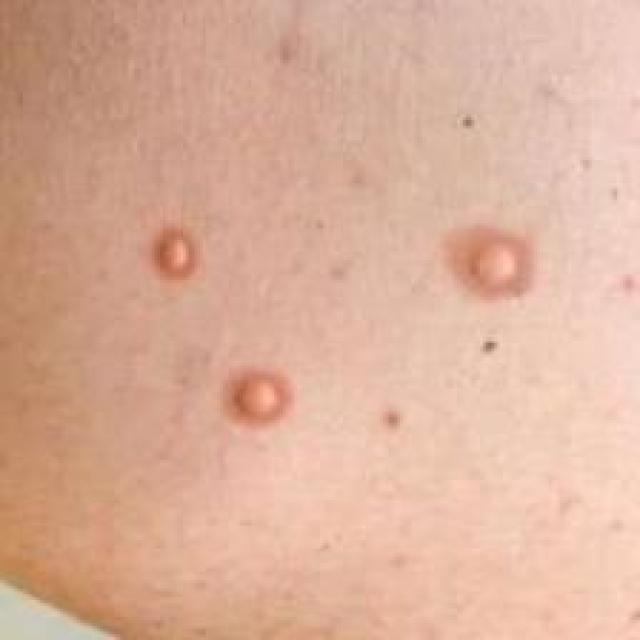monkeypox: (107, 131, 610, 541)
